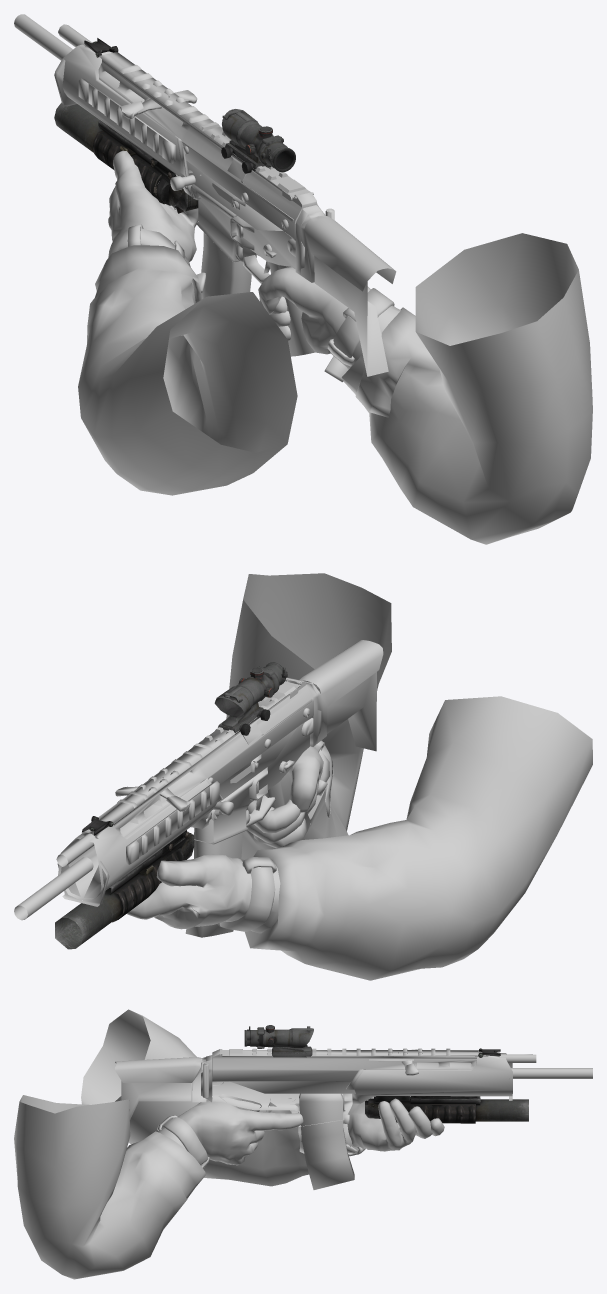
The model's file is ZhuJue.FBX.
The picture shows the model from 3 angles, top to bottom: view 1: azimuth 30°, elevation 25°; view 2: azimuth 150°, elevation 25°; view 3: azimuth 270°, elevation 25°; orthographic projection. The views are drawn at different scales.
Visible parts, largest first — view 1: DrawCall_0350; view 2: DrawCall_0350; view 3: DrawCall_0350.
Part boxes in pixels (<box>): DrawCall_0350: <box>14,14,592,544</box>; DrawCall_0350: <box>14,573,592,980</box>; DrawCall_0350: <box>14,1009,592,1279</box>.
Size of the model in its own units: 22.88 by 17.98 by 43.26.
